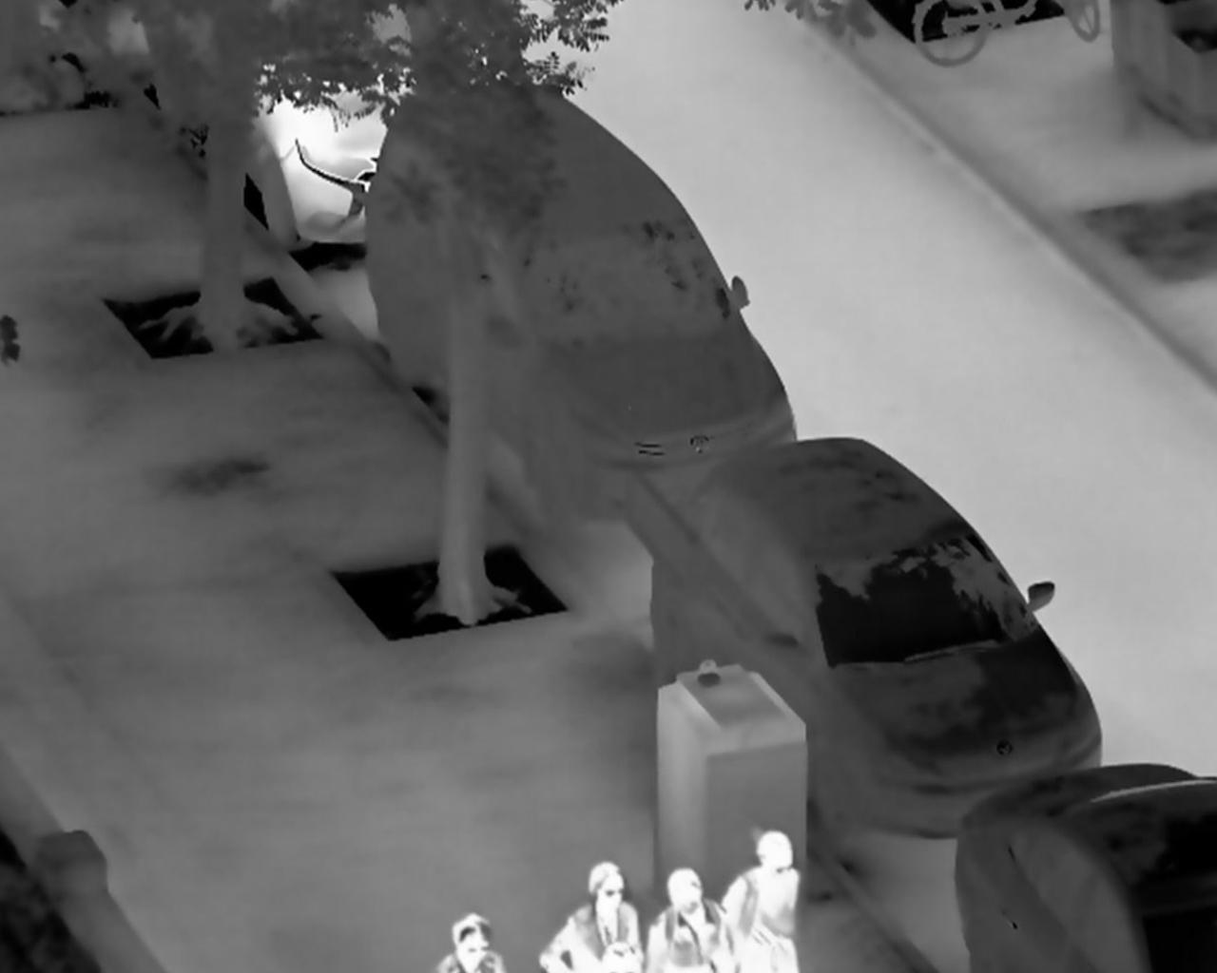person: (534, 863, 643, 973), (721, 826, 802, 973), (649, 867, 738, 973), (429, 911, 512, 973)
